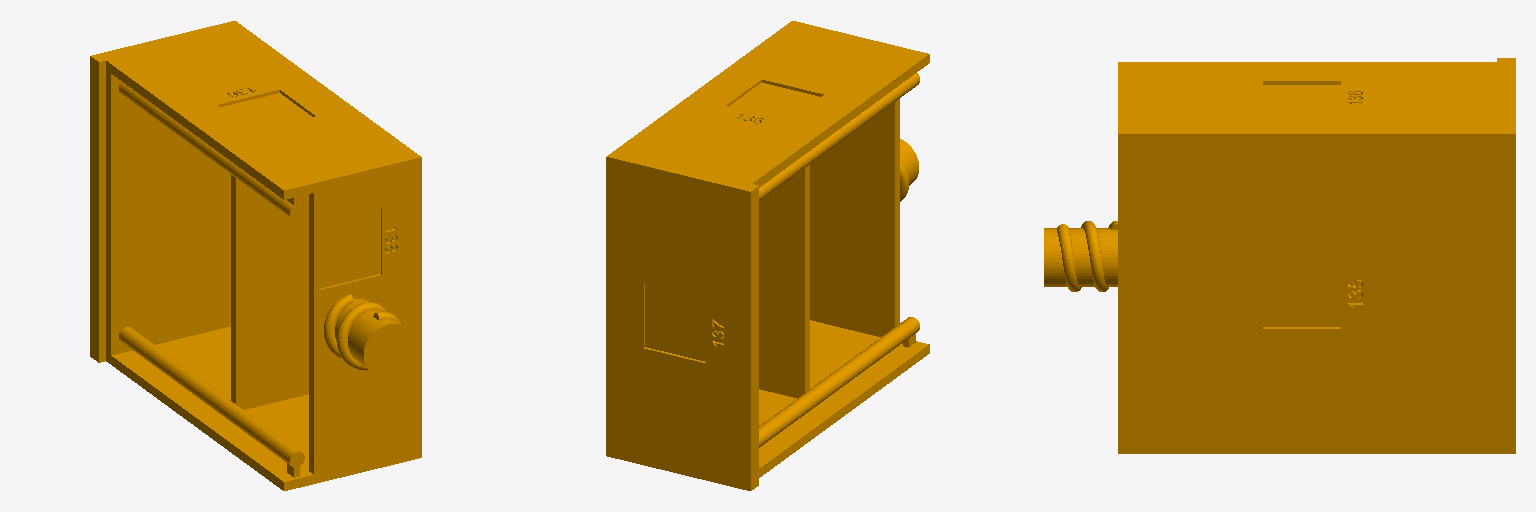
robot.urdf — cabinet_body:
<?xml version="1.0"?>
<robot name="cabinet_body">
    <link name="cabinet_body">
        <visual>
            <geometry>
                <mesh filename="../../mesh/cabinet/cabinet_body.obj" scale="1 1 1"/>
            </geometry>
        </visual>
        <collision>
            <geometry>
                <mesh filename="../../mesh/cabinet/cabinet_body.obj" scale="1 1 1"/>
            </geometry>
            <sdf resolution="512"/>
        </collision>
        <!-- <inertial>
            <mass value="1."/>
            <inertia ixx="0.0001" ixy="0.0" ixz="0.0" iyy="0.0001" iyz="0.0" izz="0.0001"/>
        </inertial> -->
    </link>
</robot>

--- Render facts (derived) ---
The picture shows the robot from 3 angles, left to right: view 1: azimuth 30°, elevation 25°; view 2: azimuth 150°, elevation 25°; view 3: azimuth 270°, elevation 25°; orthographic projection.
Robot: cabinet_body — 1 links, 0 joints (none); root link cabinet_body; default pose: every joint at zero.
Visible links, largest first — view 1: cabinet_body; view 2: cabinet_body; view 3: cabinet_body.
Link boxes in pixels (left/top/right/bottom): cabinet_body: left=90, top=21, right=421, bottom=490; cabinet_body: left=606, top=21, right=929, bottom=490; cabinet_body: left=1044, top=58, right=1515, bottom=453.
Size in the robot's own frame: 0.0605 by 0.16 by 0.12 metres.
1 mesh visuals loaded from 1 distinct referenced files (1 OBJ).